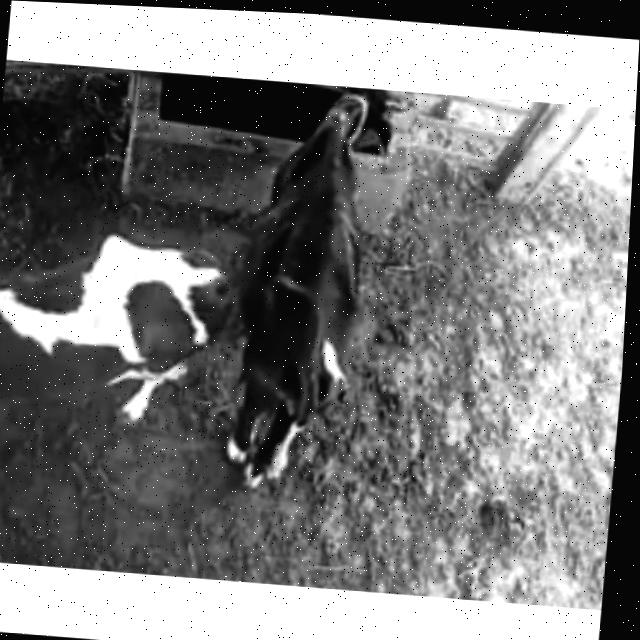drink: (224, 76, 435, 223)
